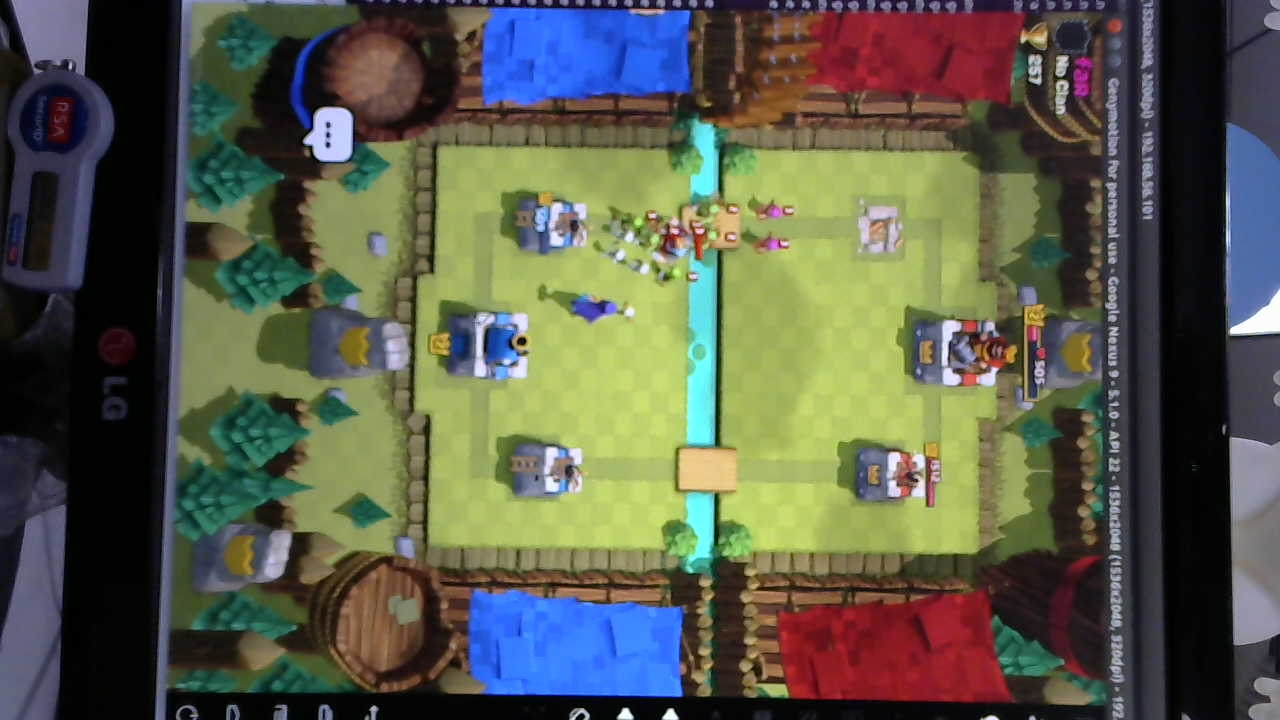archers: (756, 198, 787, 257)
arena: (500, 437, 582, 506), (513, 192, 592, 259)
darena: (850, 198, 905, 258)
earena: (846, 437, 932, 508)
eking: (906, 312, 1014, 391)
king: (450, 306, 536, 385)
knight: (653, 217, 709, 259)
skeleton: (608, 231, 649, 274)
speargoblins: (628, 212, 685, 282), (692, 200, 732, 252)
witch: (564, 288, 632, 330)
